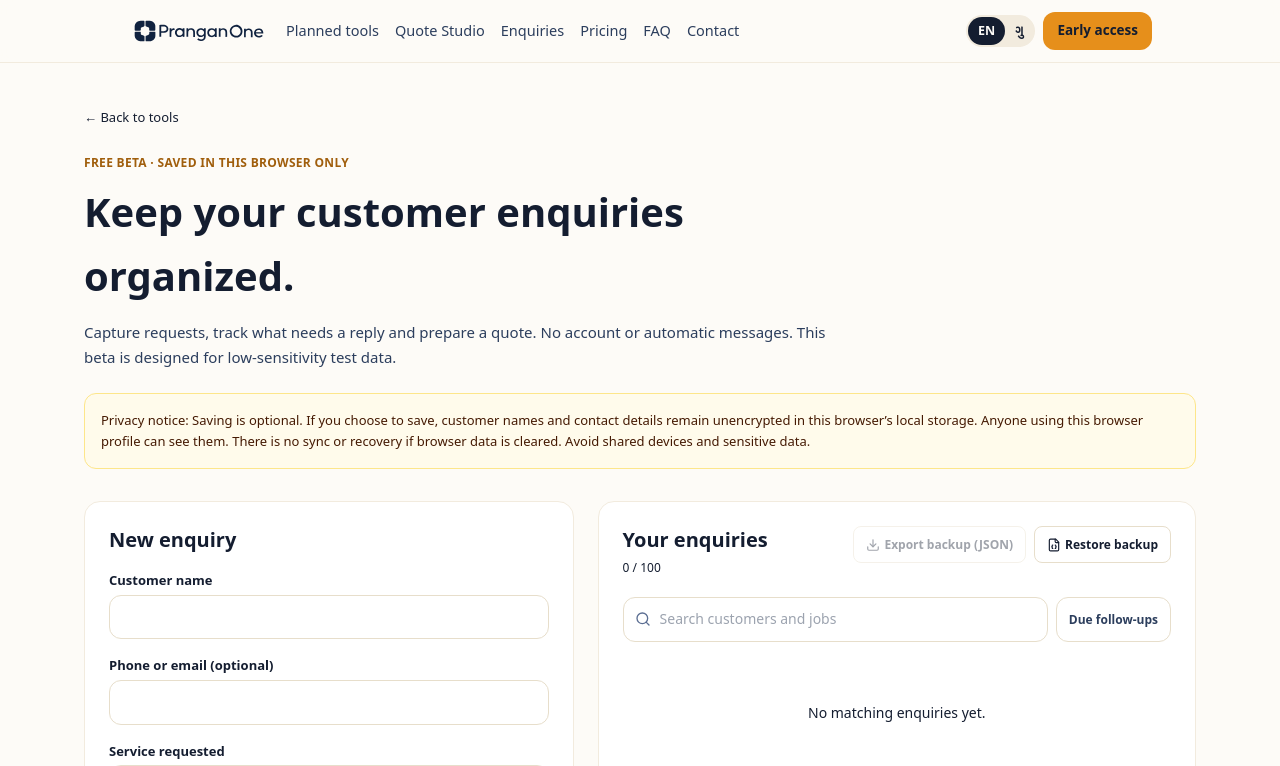
local enquiry tracker › requires opt-in before writing customer contact details
The width and height of the screenshot is (1280, 766).
Type "Ravi" into the field labelled "Customer name" at (329, 617), box x1=109 y1=595 x2=549 y2=639
(page scrolled)
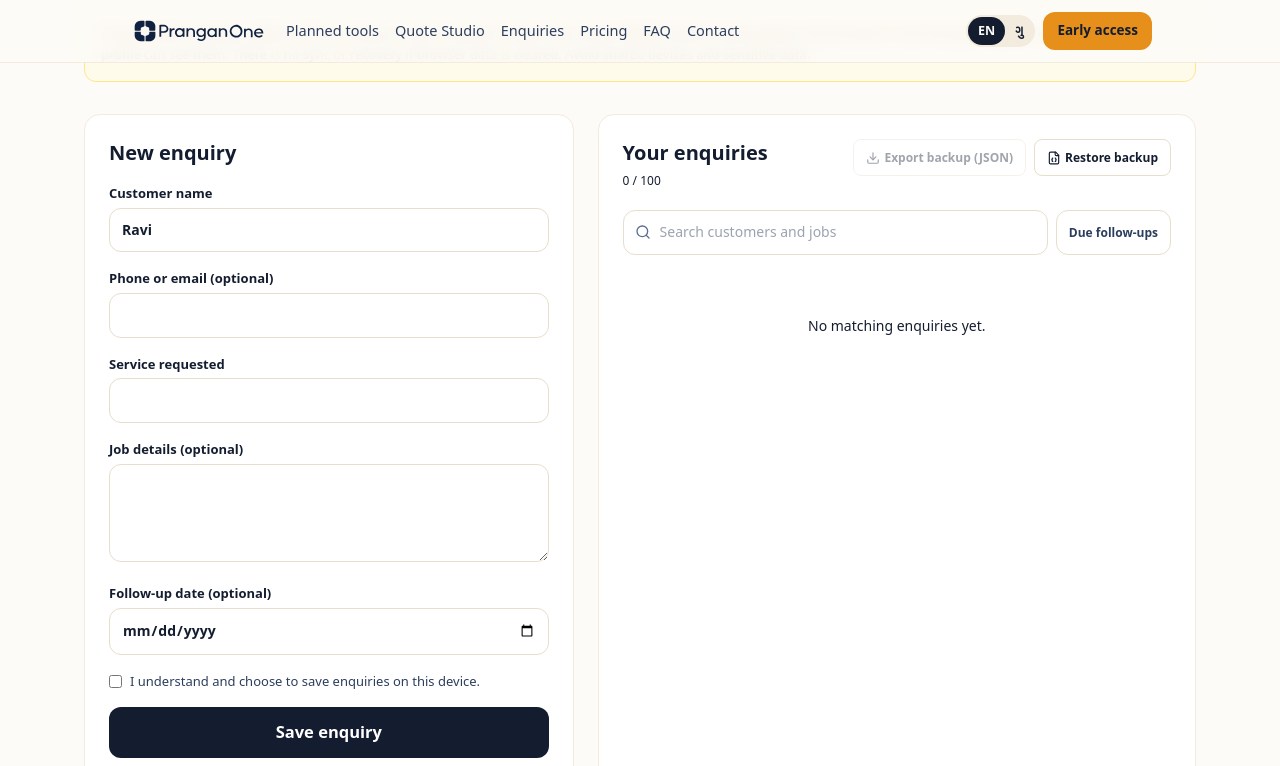
Type "AC service" into the field labelled "Service requested" at (329, 400), box x1=109 y1=378 x2=549 y2=423
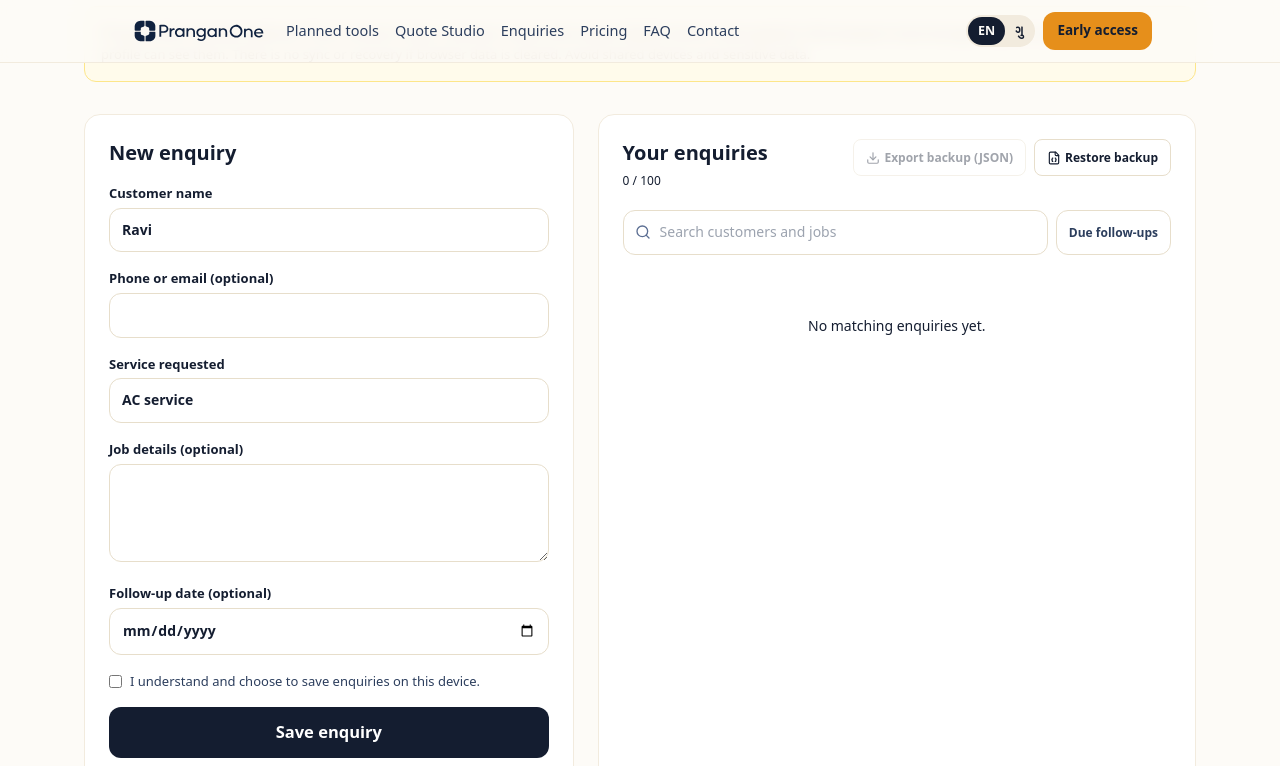
Click the button "Save enquiry" at (329, 732), box x1=109 y1=707 x2=549 y2=758
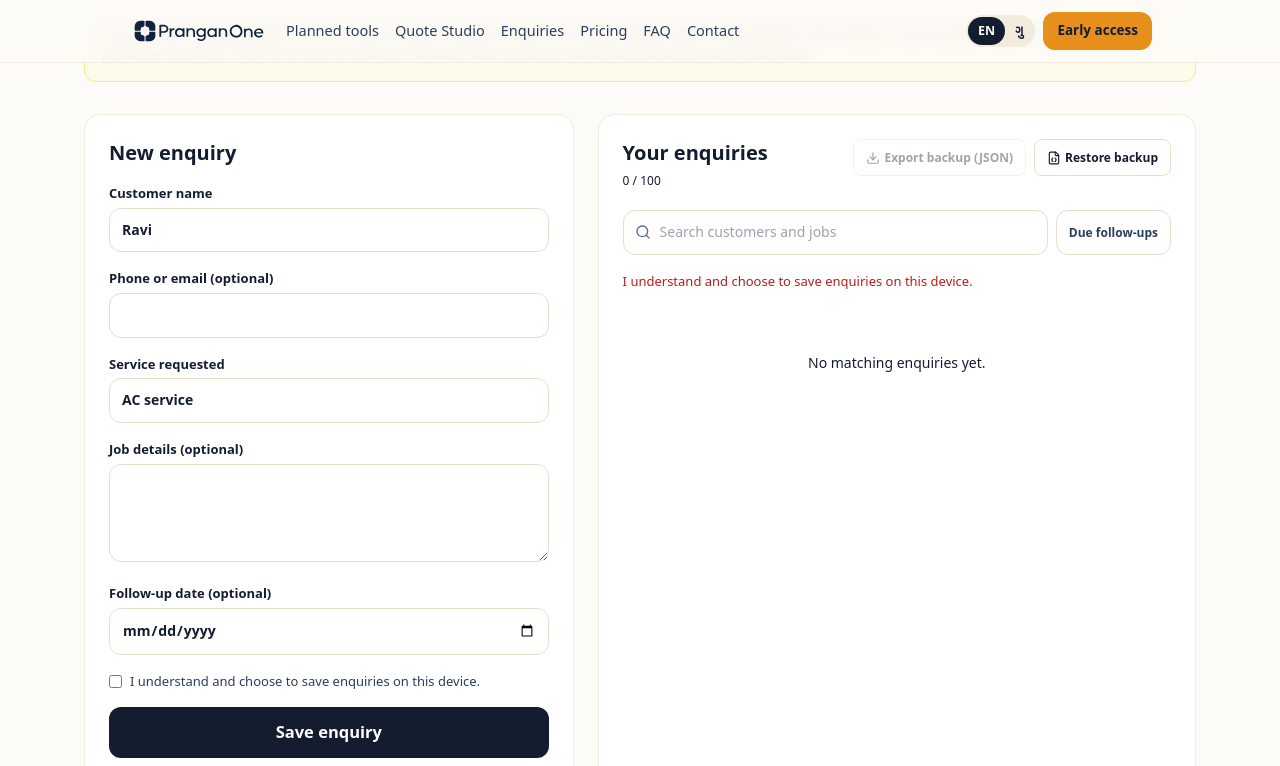
Now the message shows "choose to save", box x1=623 y1=272 x2=973 y2=290
